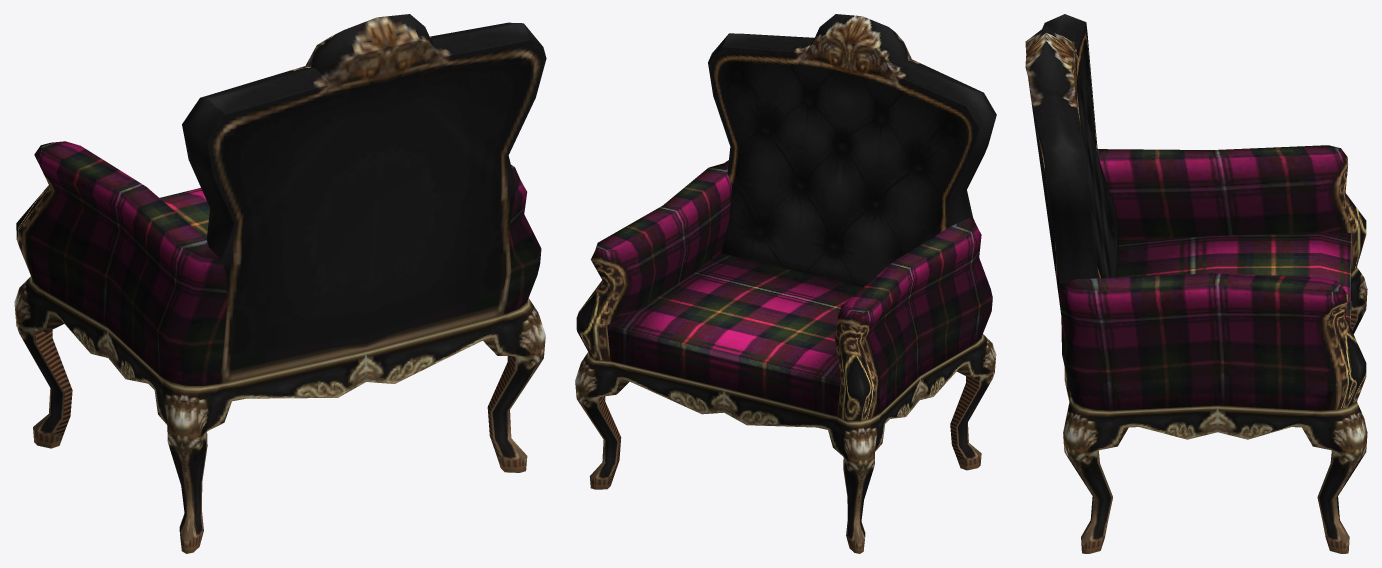
Rendered from furni_0200313_01.FBX.
3 views of the same model, side by side, from view 1: azimuth 30°, elevation 25°; view 2: azimuth 150°, elevation 25°; view 3: azimuth 270°, elevation 25° (orthographic). The views are drawn at different scales.
Parts seen in each view (by area): view 1: furni_0200313_01; view 2: furni_0200313_01; view 3: furni_0200313_01.
Part boxes in pixels (left/top/right/bottom): furni_0200313_01: left=14, top=14, right=546, bottom=553; furni_0200313_01: left=575, top=14, right=996, bottom=553; furni_0200313_01: left=1025, top=14, right=1367, bottom=553.
Size of the model in its own units: 80.4 by 104 by 72.55.
